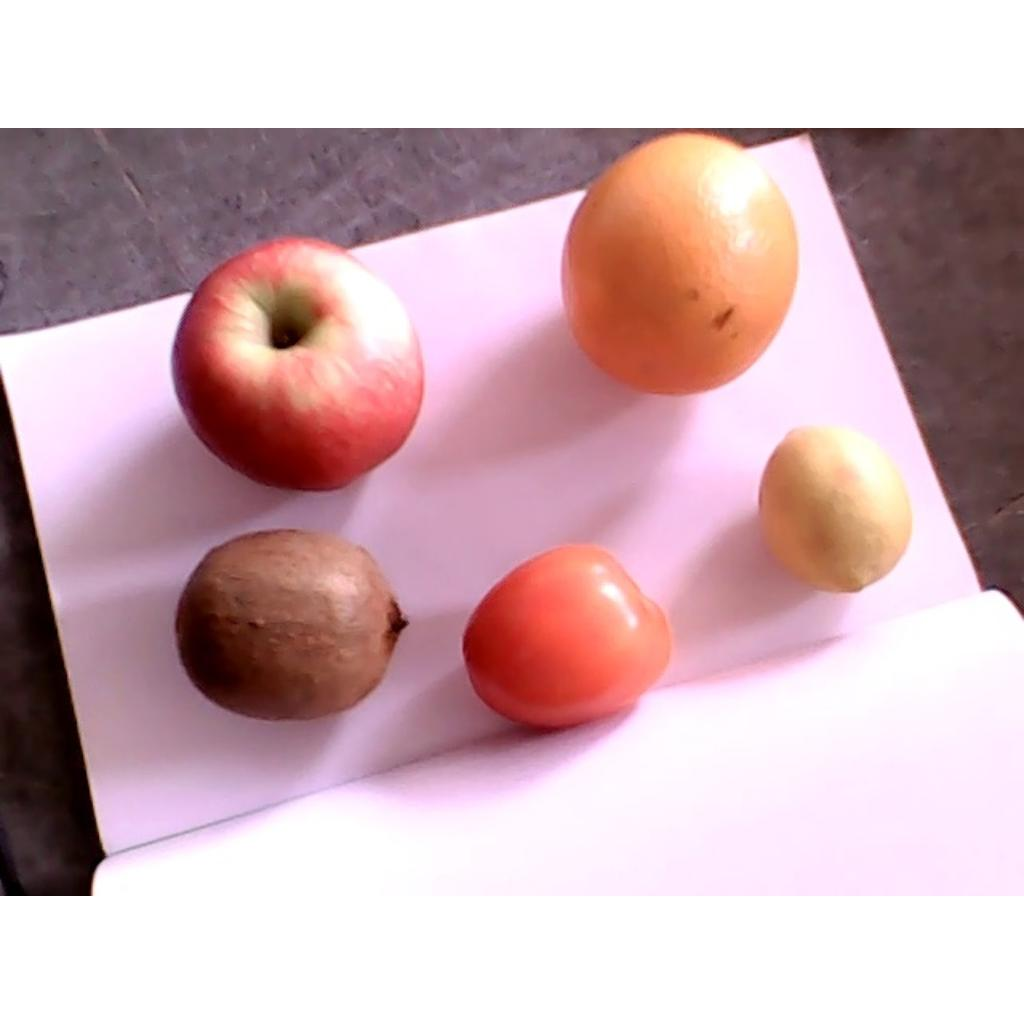apple: (171, 239, 424, 490)
kiwi: (174, 529, 409, 721)
lemon: (759, 425, 913, 592)
orange: (559, 130, 799, 394)
tomato: (463, 545, 672, 725)
